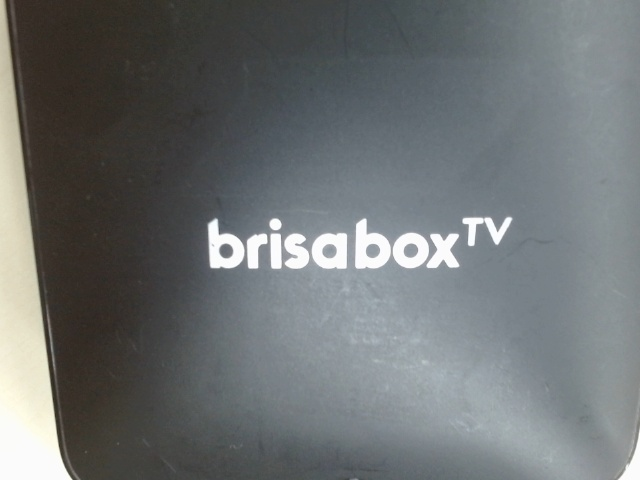AH_brisabox: (205, 208, 514, 281)
